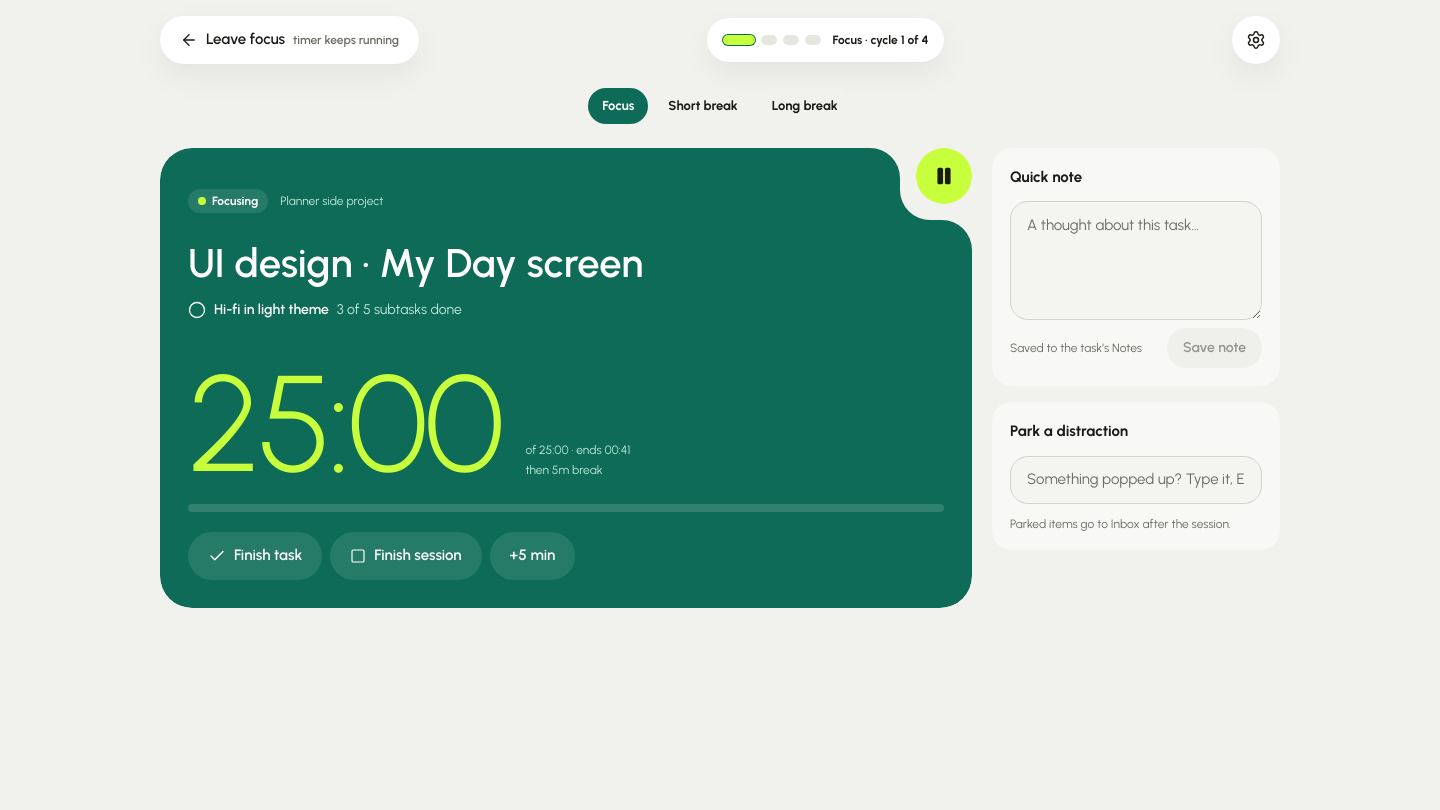
it: FocusScreen › starts on ?task, pauses, resumes and finishes into the summary
The width and height of the screenshot is (1440, 810).
Expected: the text "25:00" is shown, x1=188 y1=356 x2=501 y2=492
Expected: the element named "Timer mode" is shown, x1=588 y1=88 x2=852 y2=124
Step 1. Click the button named "Pause" → (944, 176), box x1=916 y1=148 x2=972 y2=204
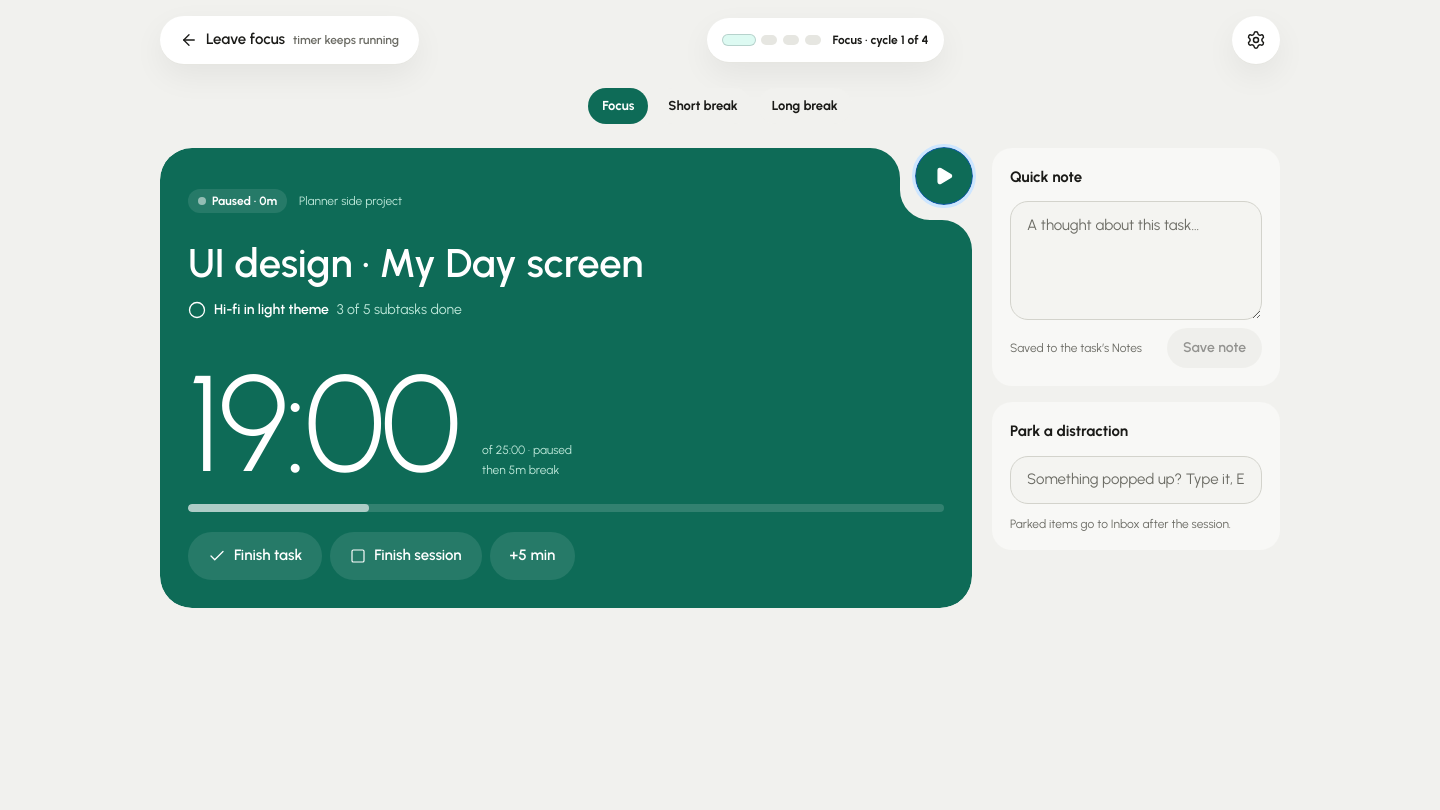
Expected: the text "19:00" is shown, x1=188 y1=356 x2=458 y2=492
Step 2. Type "Reply to Sara" into the field named "Distraction" → (1136, 480), box x1=1011 y1=456 x2=1261 y2=502
Then press Enter
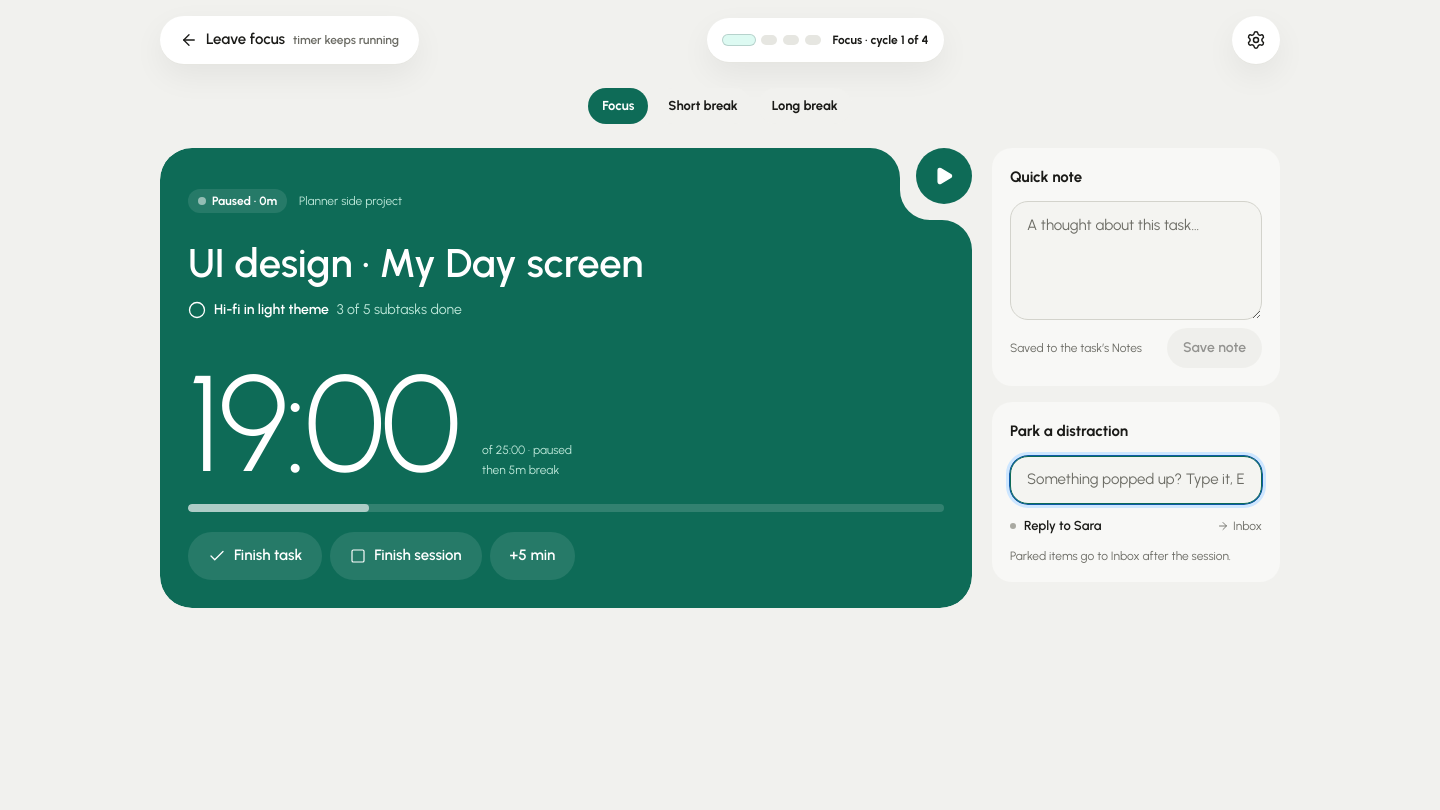
Expected: the text "Reply to Sara" is shown, x1=1024 y1=518 x2=1102 y2=532
Step 3. Click the button named "Resume" → (944, 176), box x1=916 y1=148 x2=972 y2=204
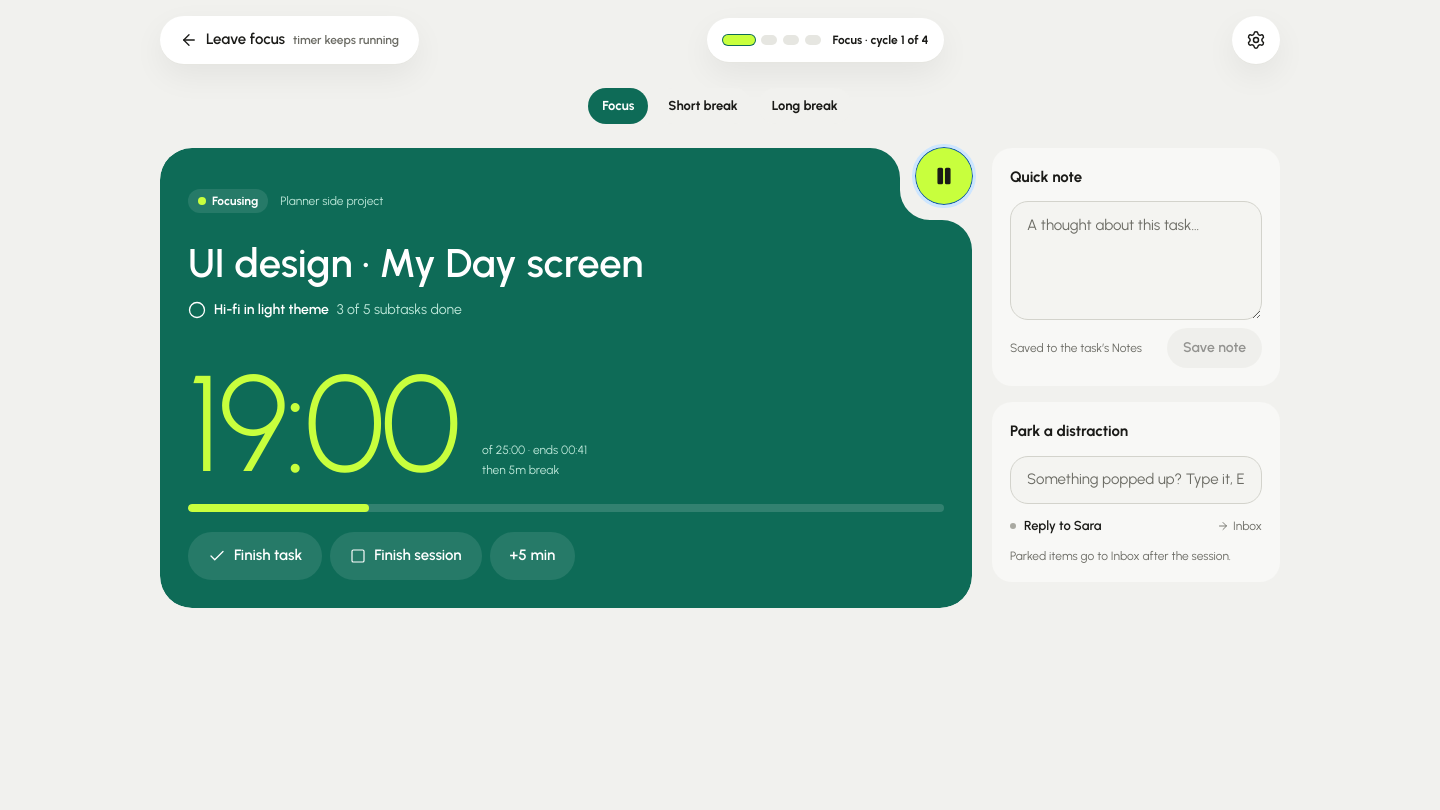
Step 4. Click the button "Finish session" → (406, 556), box x1=330 y1=532 x2=482 y2=580
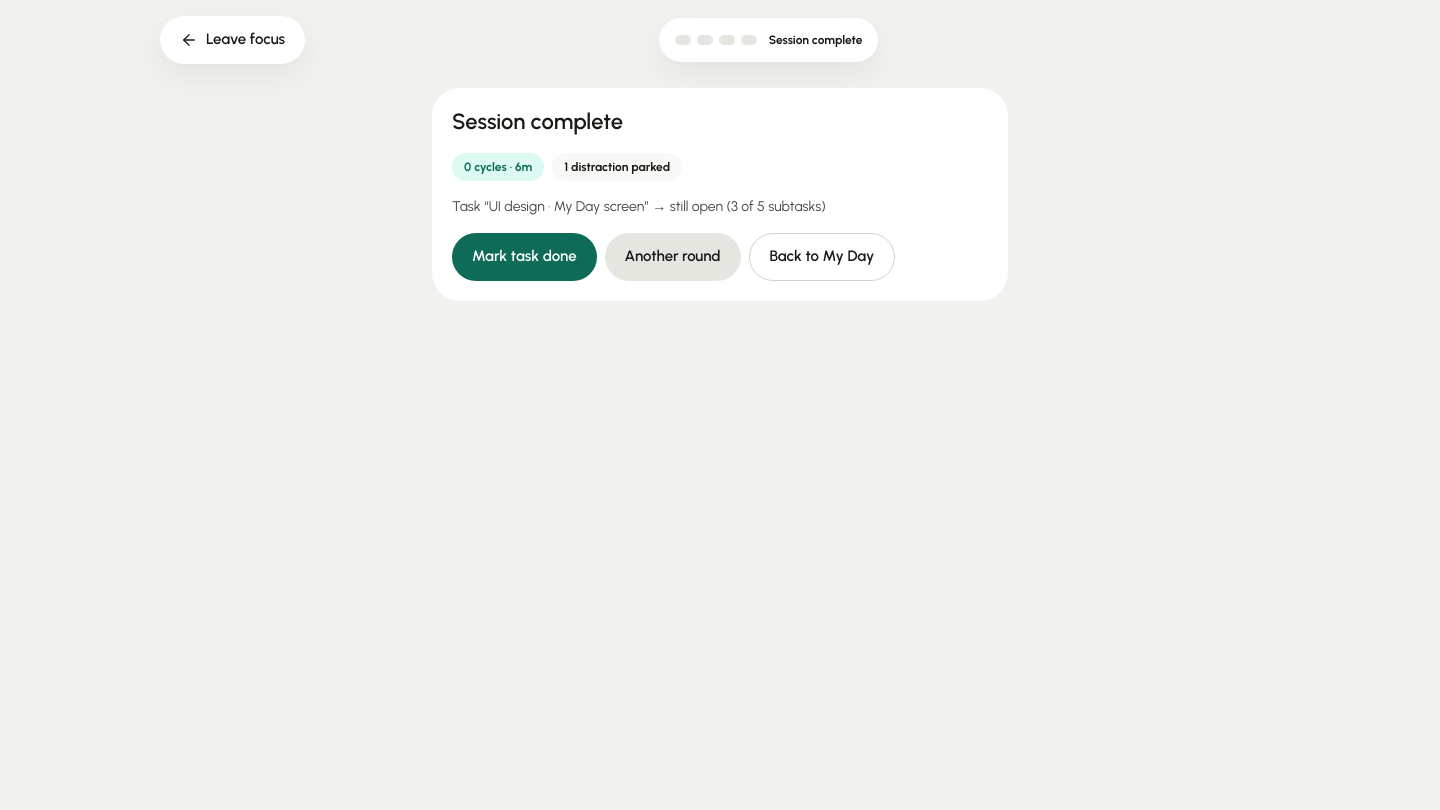
Expected: the heading "Session complete" is shown, x1=452 y1=108 x2=623 y2=135
Expected: the list item "1 distraction parked" is shown, x1=552 y1=153 x2=682 y2=181
